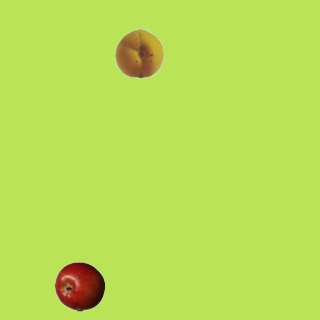Apple Braeburn: (54, 261, 104, 311)
Peach 2: (114, 27, 164, 77)
